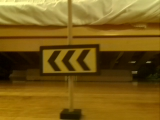left: (40, 47, 101, 75)
